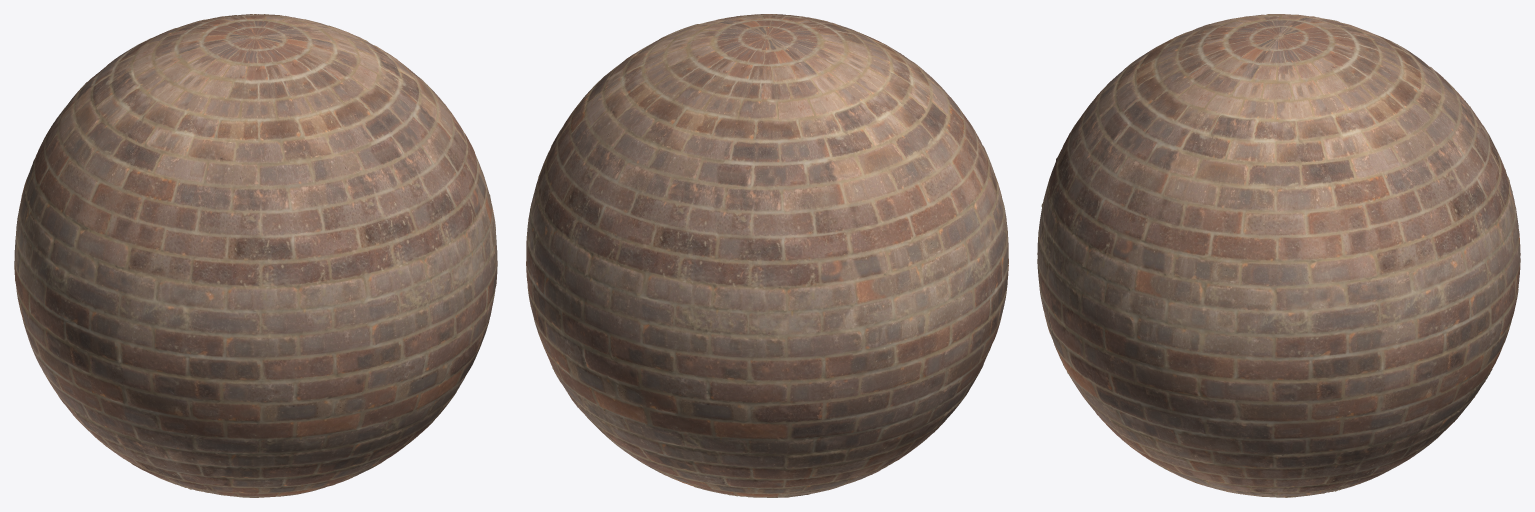
File: brick_wall_09_1k.gltf
The picture shows the model from 3 angles, left to right: view 1: azimuth 30°, elevation 25°; view 2: azimuth 150°, elevation 25°; view 3: azimuth 270°, elevation 25°; orthographic projection.
Visible parts, largest first — view 1: sphere_gltf; view 2: sphere_gltf; view 3: sphere_gltf.
Part boxes in pixels (x1=…): sphere_gltf: x1=14, y1=14, x2=497, y2=497; sphere_gltf: x1=526, y1=14, x2=1008, y2=497; sphere_gltf: x1=1037, y1=14, x2=1520, y2=497.
Bounding box in the file's own units: 2.04 × 2.04 × 2.03.
Materials: 1 (1 with a texture image).
